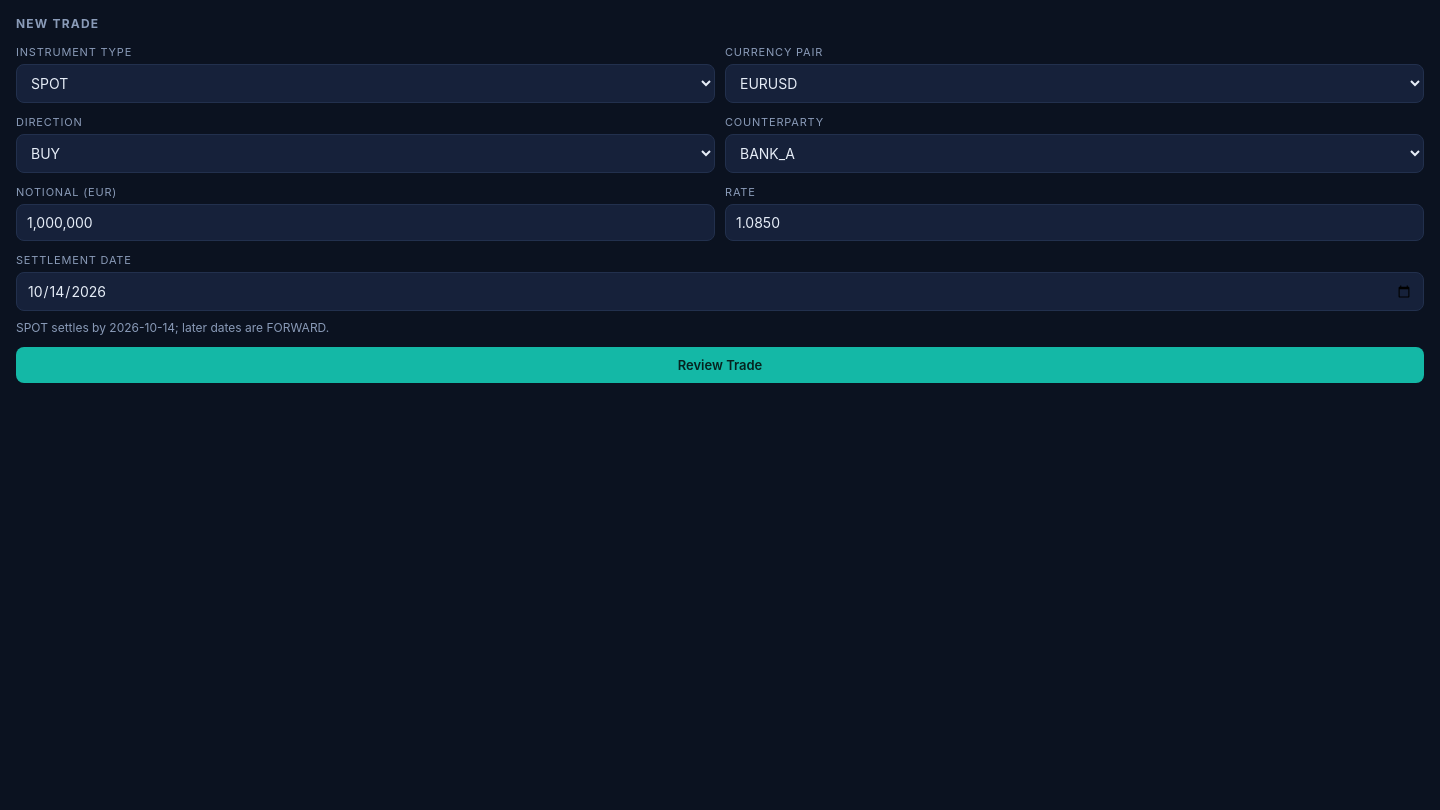
Scenario: NewTradeForm › OPTION trades › shows a confirmation review with option details
Select "OPTION" in the dropdown labelled "Instrument Type" at (366, 84), box x1=16 y1=64 x2=715 y2=103
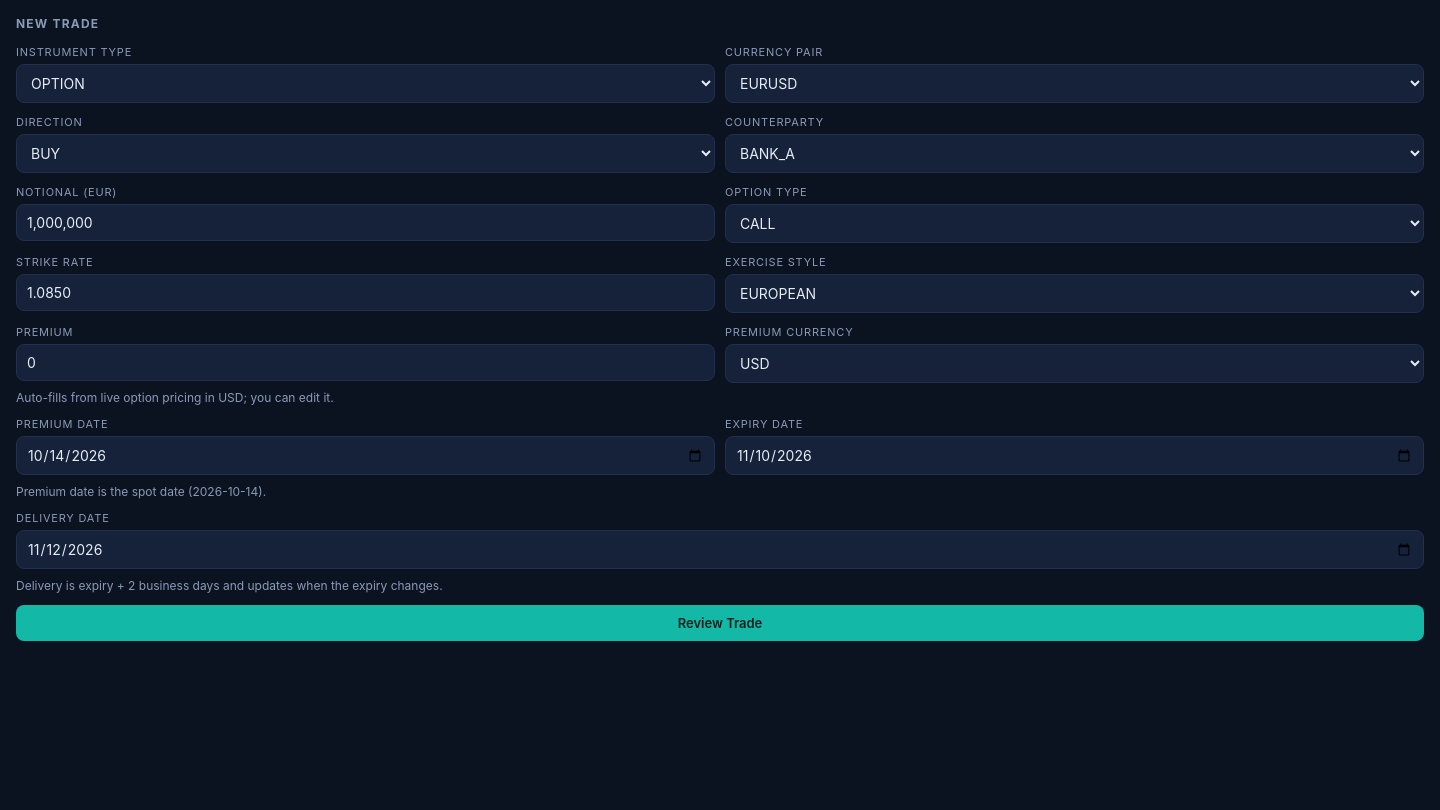
Select "PUT" in the dropdown labelled "Option Type" at (1074, 224), box x1=725 y1=204 x2=1424 y2=243
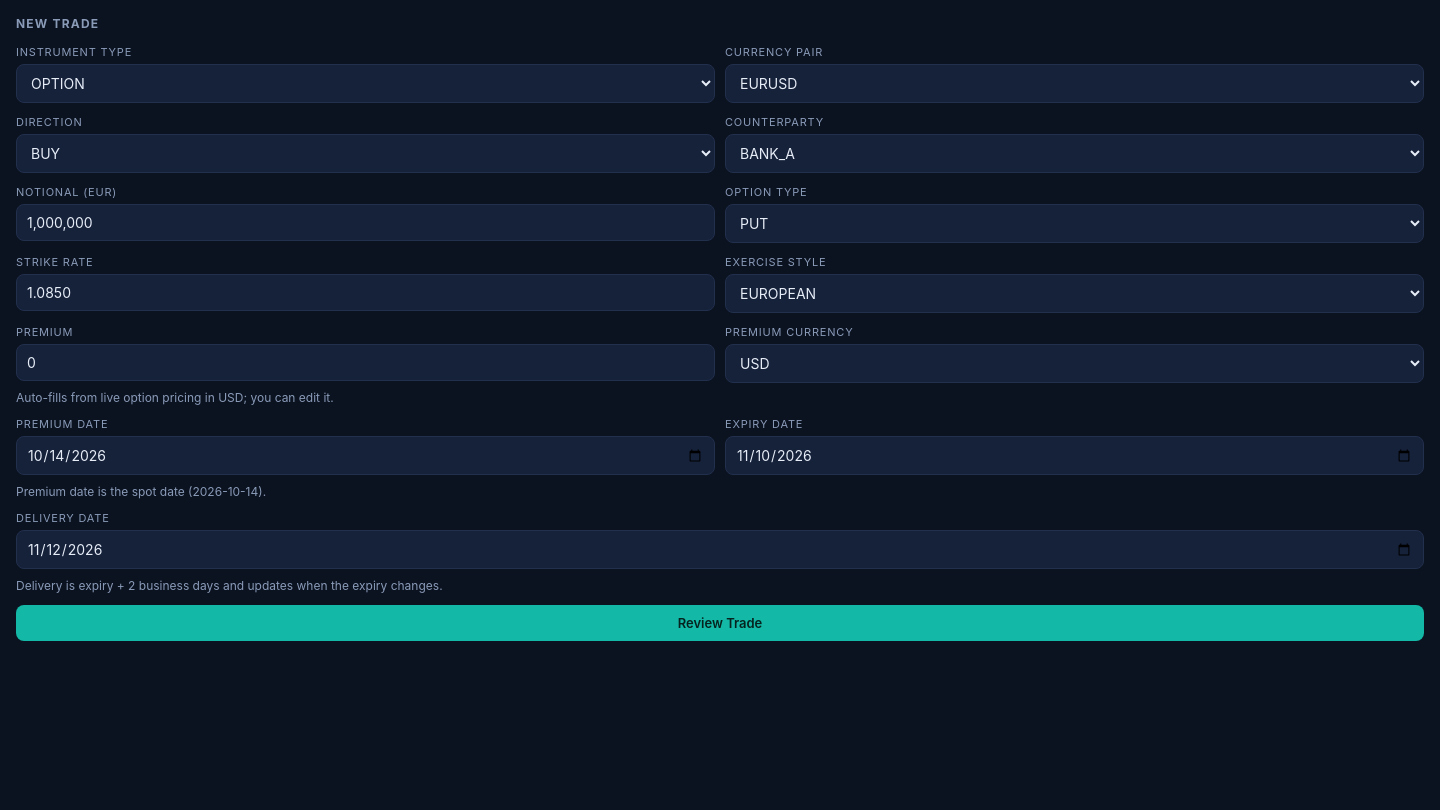
Click the button "Review Trade" at (720, 623), box x1=16 y1=605 x2=1424 y2=641
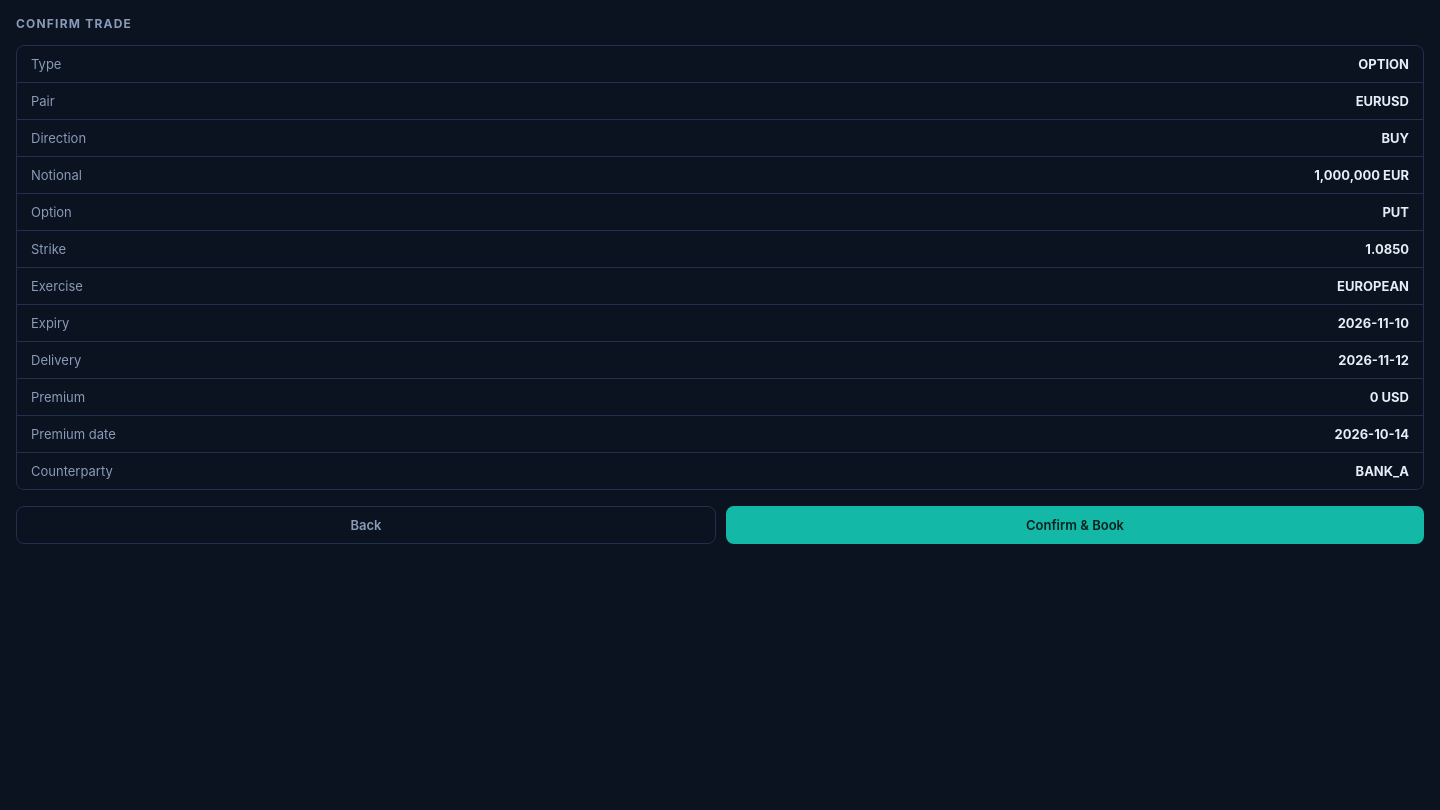
Check: the text "OPTION" is shown, box x1=1358 y1=56 x2=1409 y2=72
Check: the heading "Confirm Trade" is shown, box x1=16 y1=16 x2=132 y2=31
Check: the text "PUT" is shown, box x1=1382 y1=204 x2=1409 y2=220
